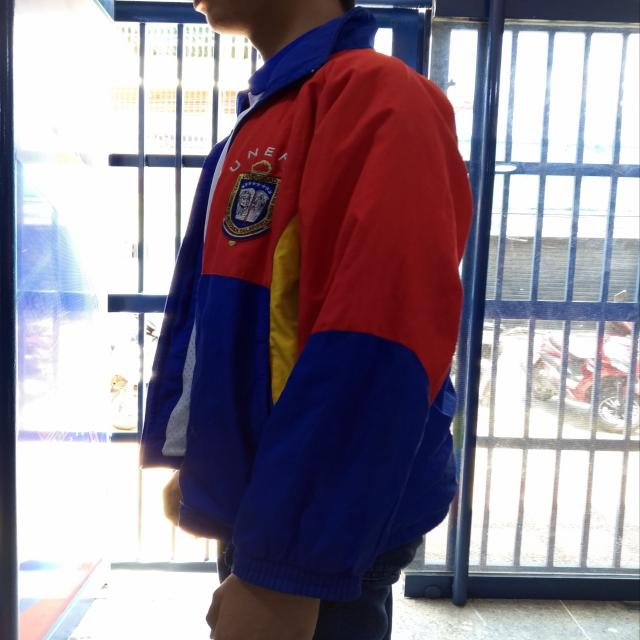chaqueta_unefa: (140, 6, 474, 601)
